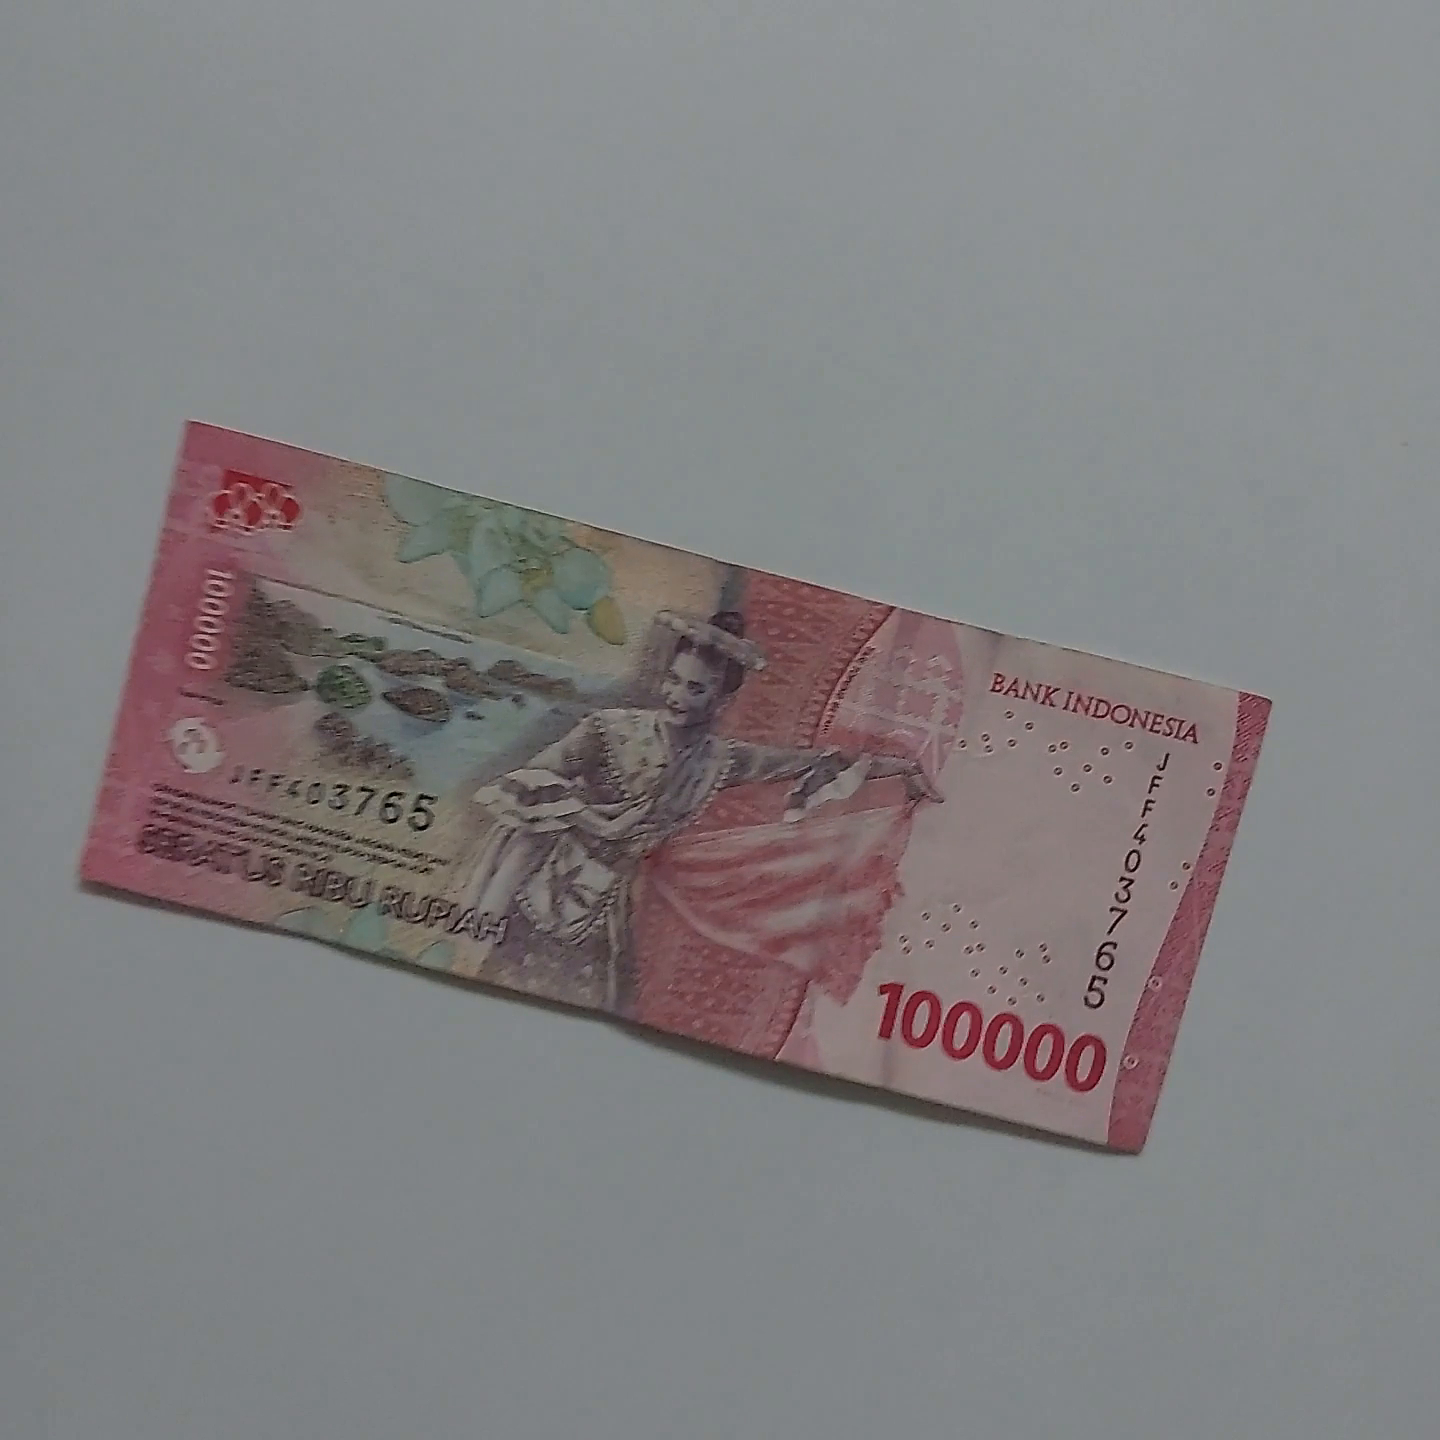100k: (87, 393, 1275, 1174)
